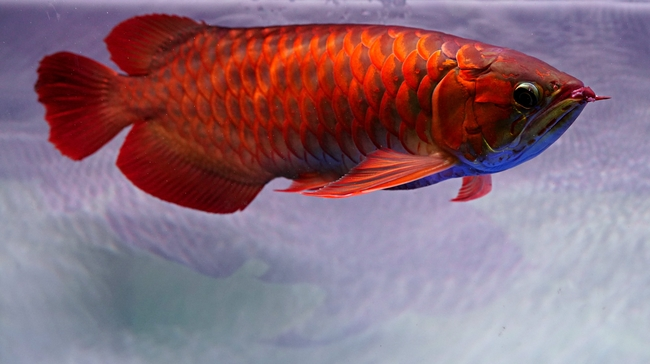fish: (29, 11, 603, 219)
